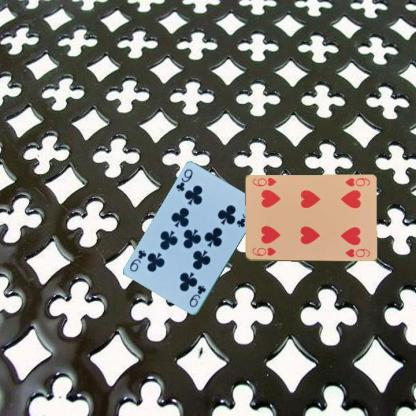6h: (249, 245, 276, 258), (343, 176, 371, 188)
9c: (186, 283, 208, 309), (173, 166, 194, 193)
